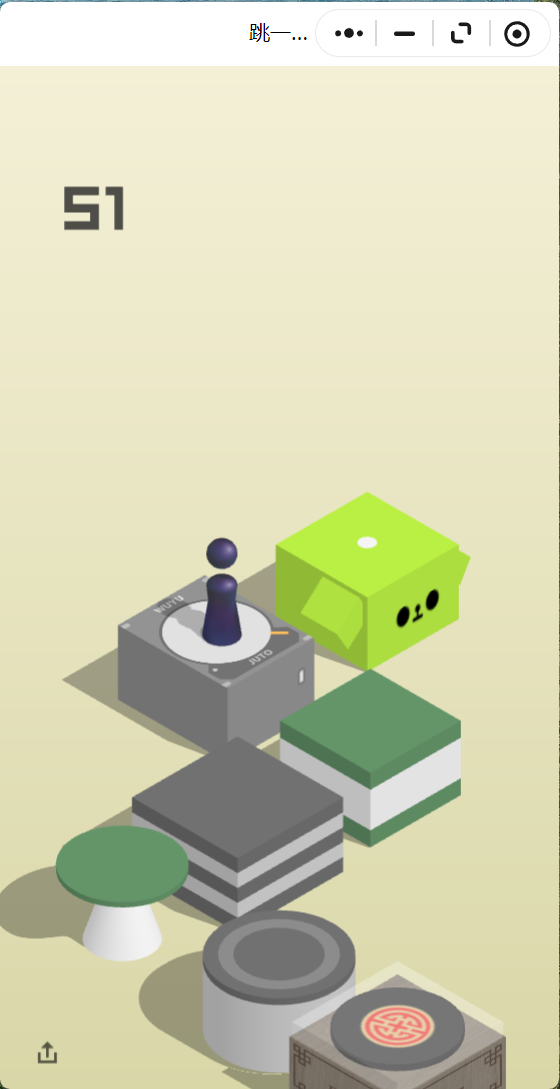piece: (206, 538, 238, 644)
target: (276, 492, 459, 597)
